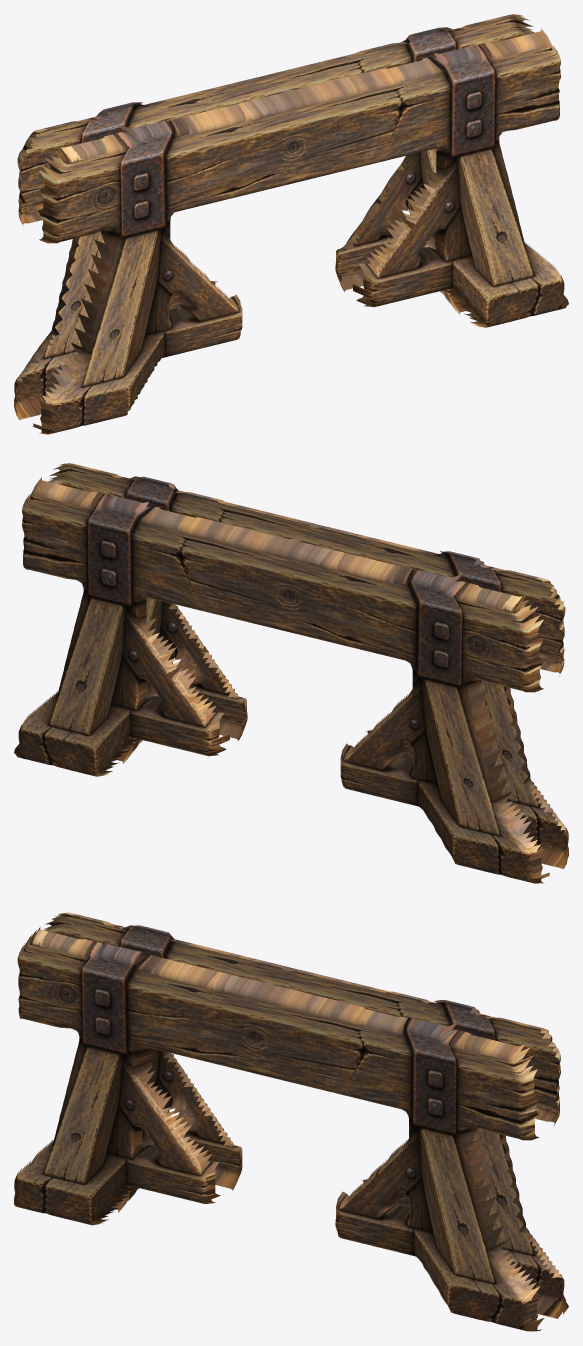
File: v4-mine-chamber-scatter-buffer-stop.glb
3 views of the same model, one above another, from view 1: azimuth 30°, elevation 25°; view 2: azimuth 150°, elevation 25°; view 3: azimuth 330°, elevation 25° (orthographic).
Visible parts, largest first — view 1: v4-mine-chamber-scatter-buffer-stop; view 2: v4-mine-chamber-scatter-buffer-stop; view 3: v4-mine-chamber-scatter-buffer-stop.
Part boxes in pixels (x1,y1,x2,y2): v4-mine-chamber-scatter-buffer-stop: (14,14,568,434); v4-mine-chamber-scatter-buffer-stop: (14,463,568,883); v4-mine-chamber-scatter-buffer-stop: (14,912,568,1331).
Size of the model in its own units: 1.89 by 0.9762 by 0.24.
1 material, 1 textured.
